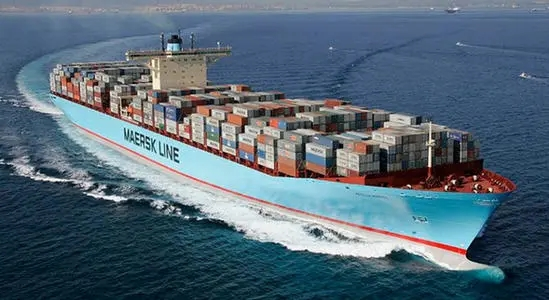Cargoship: (45, 27, 516, 265)
